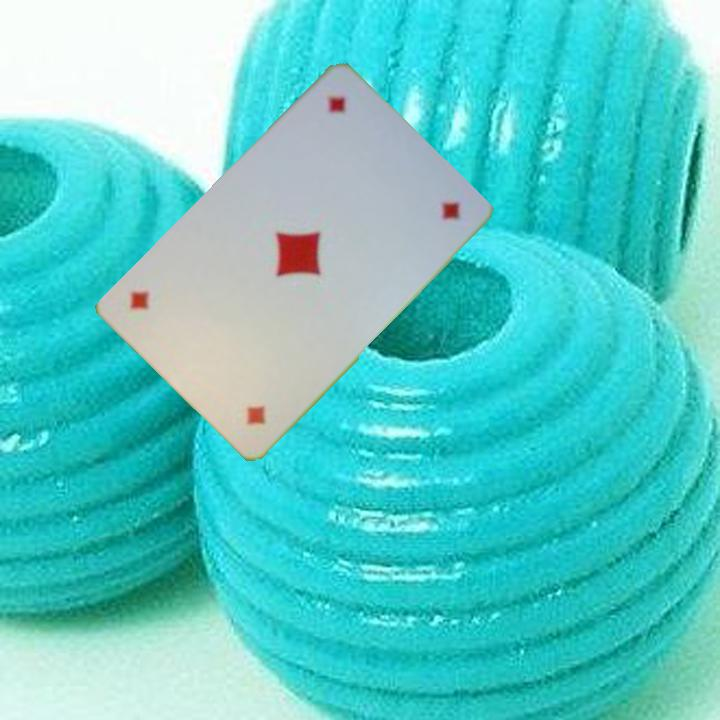d_a.png: (281, 79, 410, 208), (183, 313, 312, 442)
